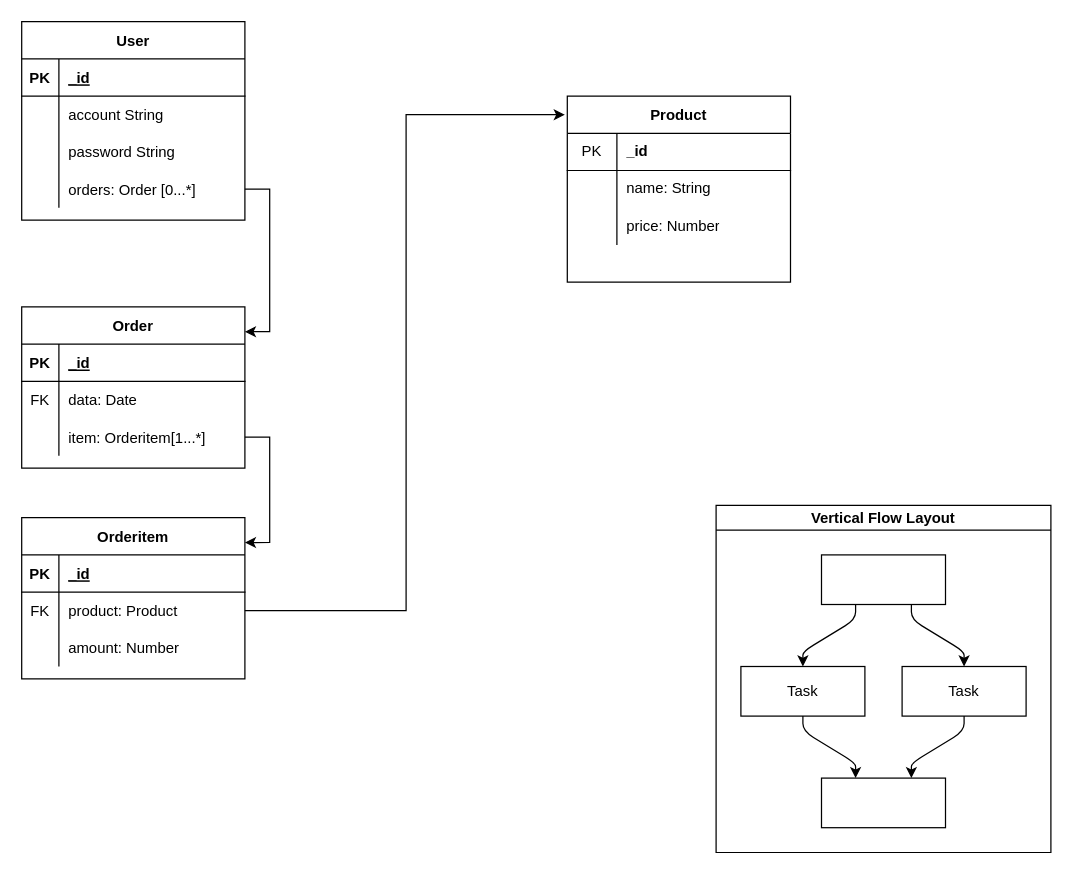
The diagram is 1073 pixels wide and 874 high, and some of its shapes have lost their labels. The shapes that lost their labels are listed below. From the top down, each one's centre as x and y in pixels, then its label:
At pixel 883 579: "Start".
At pixel 883 802: "End".
